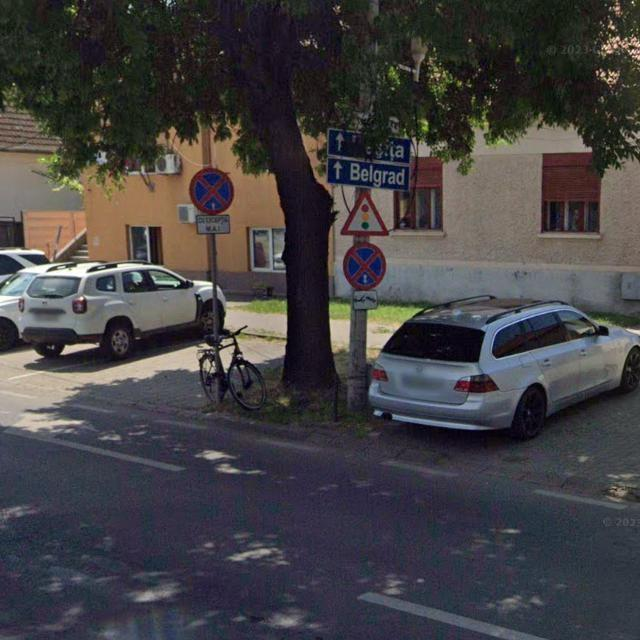forb_waiting: (189, 167, 235, 216), (343, 243, 387, 290)
